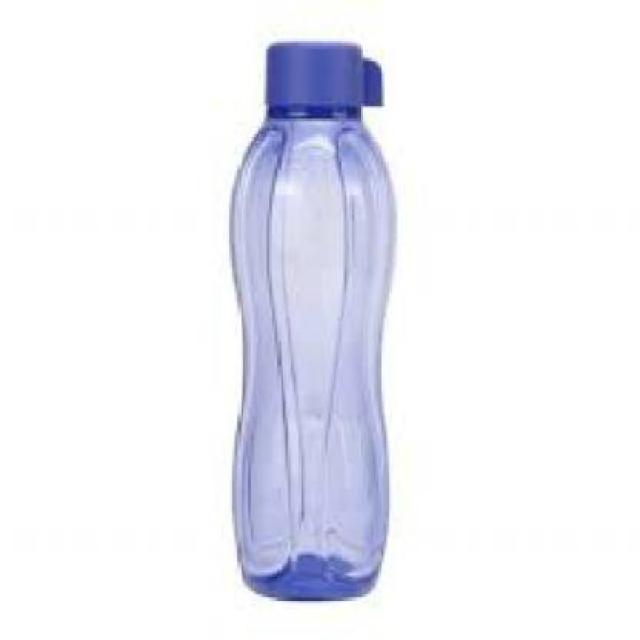Drinking: (228, 21, 399, 594)
